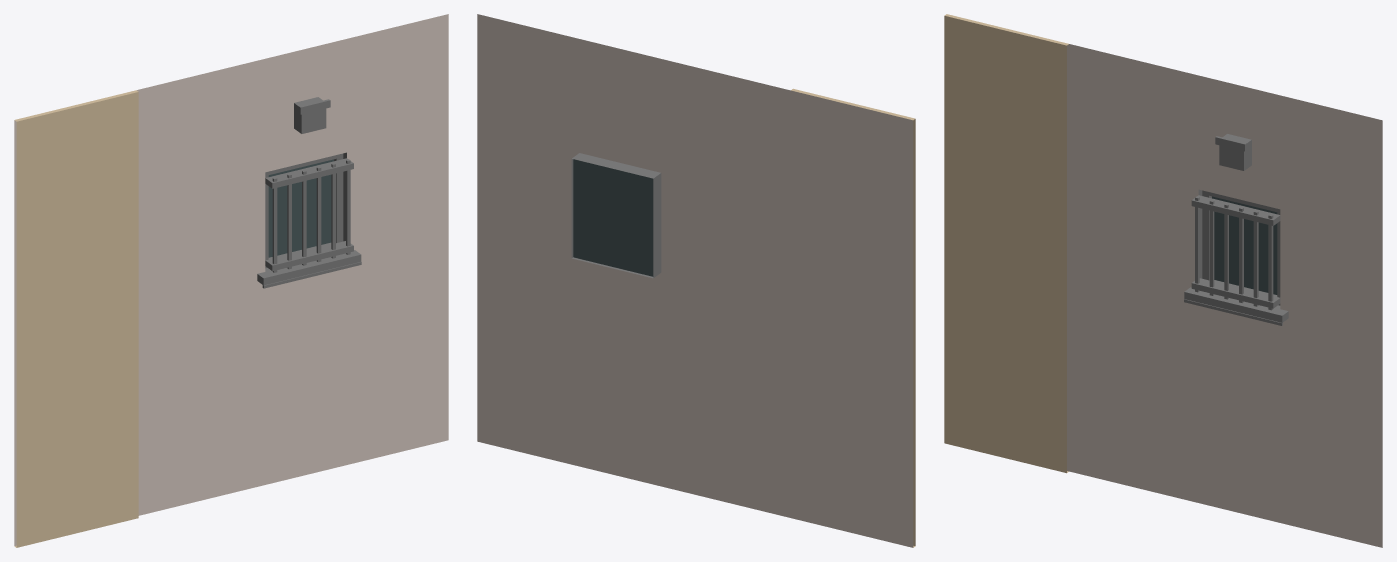
Rendered from mid-w4_close.fbx.
The picture shows the model from 3 angles, left to right: view 1: azimuth 30°, elevation 25°; view 2: azimuth 150°, elevation 25°; view 3: azimuth 330°, elevation 25°; orthographic projection.
Visible parts, largest first — view 1: a2001/200/mid-w4_close; view 2: a2001/200/mid-w4_close; view 3: a2001/200/mid-w4_close.
Part boxes in pixels (left/top/right/bottom): a2001/200/mid-w4_close: left=14, top=14, right=448, bottom=547; a2001/200/mid-w4_close: left=477, top=14, right=915, bottom=547; a2001/200/mid-w4_close: left=944, top=14, right=1382, bottom=547.
Bounding box in the file's own units: 3.2 × 3 × 0.22.
